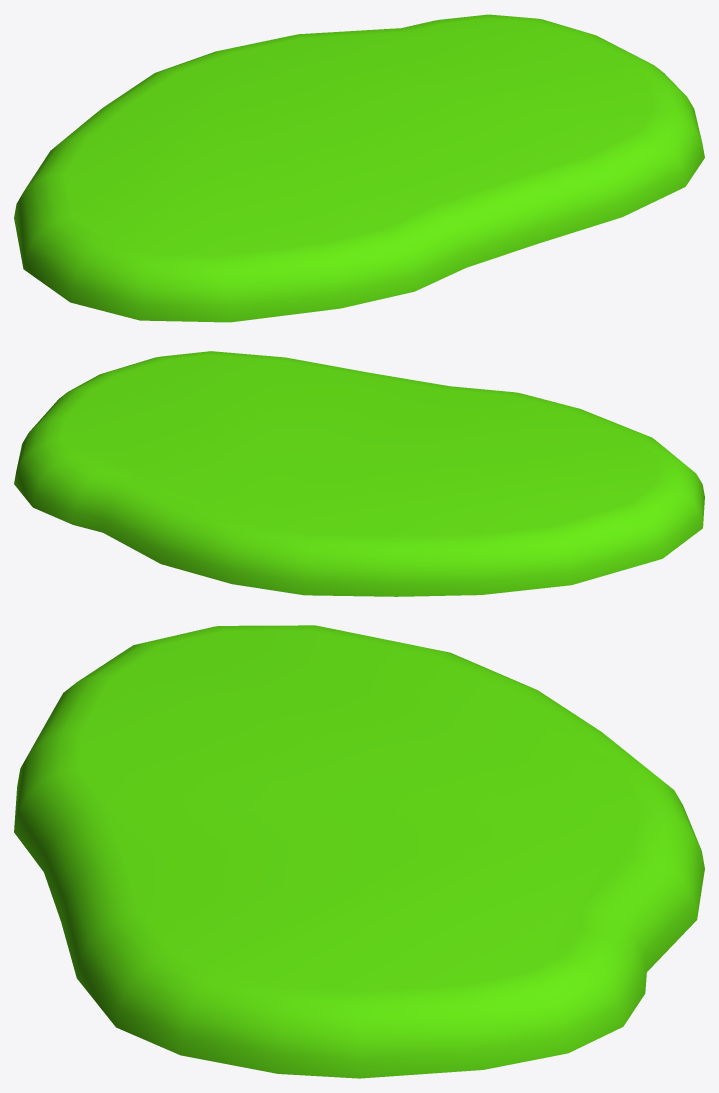
The model's file is GrassPlane_1.fbx.
3 renders of one model, top to bottom at view 1: azimuth 30°, elevation 25°; view 2: azimuth 150°, elevation 25°; view 3: azimuth 270°, elevation 25°, orthographic. The views are drawn at different scales.
Parts seen in each view (by area): view 1: GrassPlane_1; view 2: GrassPlane_1; view 3: GrassPlane_1.
Boxes of the visible parts, x1,y1,x2,y2 form: GrassPlane_1: (14,14,704,322); GrassPlane_1: (14,351,704,596); GrassPlane_1: (14,625,704,1078).
Size of the model in its own units: 1.57 by 0.1037 by 1.1.
